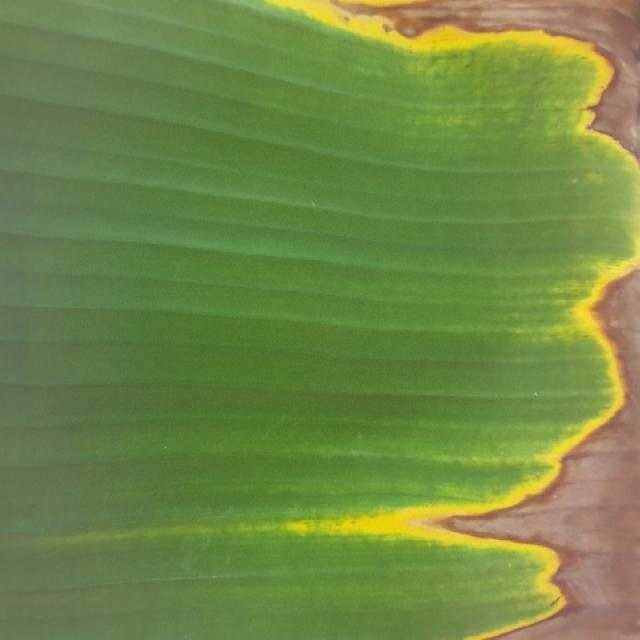Cordana: (190, 0, 640, 640)
